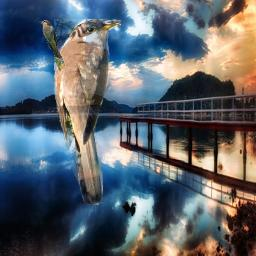Cuckoo: (54, 19, 121, 205), (38, 20, 65, 72)
